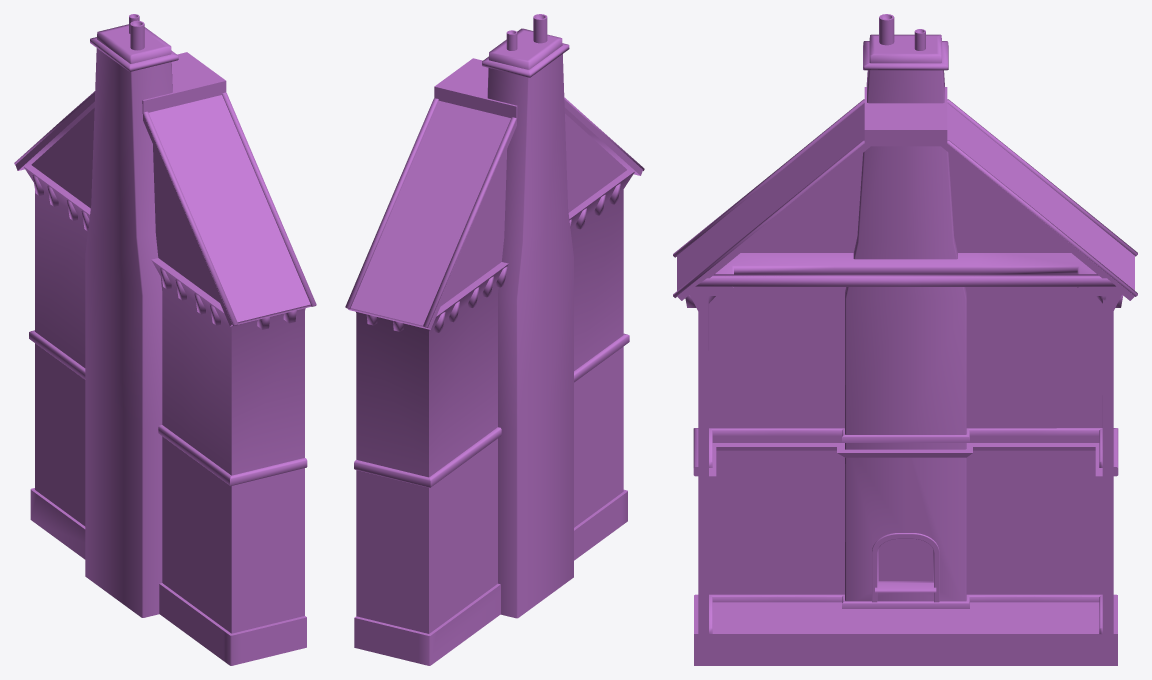
Rendered from BrickHouse_End_A.fbx.
3 views of the same model, side by side, from view 1: azimuth 30°, elevation 25°; view 2: azimuth 150°, elevation 25°; view 3: azimuth 270°, elevation 25° (orthographic). The views are drawn at different scales.
Visible parts, largest first — view 1: BrickHouse_End_A; view 2: BrickHouse_End_A; view 3: BrickHouse_End_A.
Boxes of the visible parts, x1,y1,x2,y2 form: BrickHouse_End_A: (14,14,316,665); BrickHouse_End_A: (345,14,644,665); BrickHouse_End_A: (673,14,1137,665).
Bounding box in the file's own units: 3.31 × 18.75 × 12.98.
